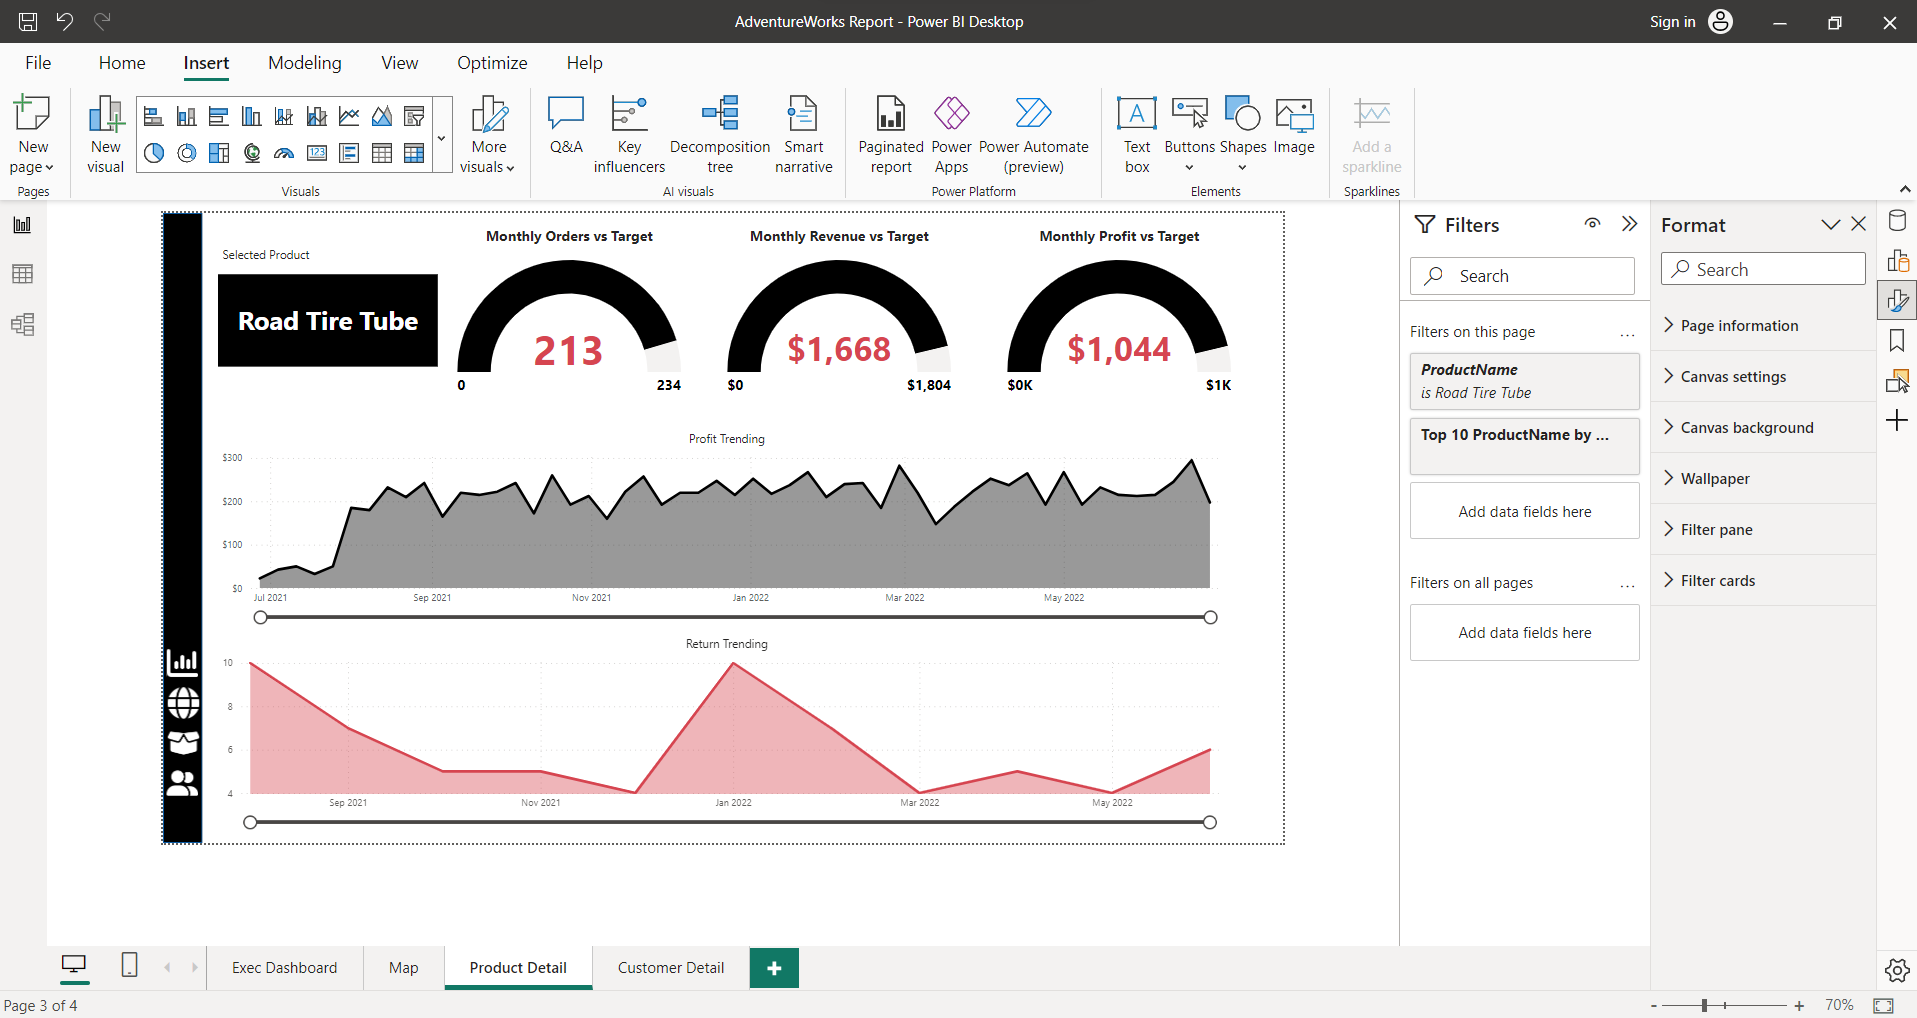

What the dashboard file says about the page in this screenshot:
{"tool":"powerbi","page":{"name":"Product Detail","canvas":[1280,720],"ordinal":2},"visuals":[{"type":"shape","box":[0,0,45,720],"z":0},{"type":"gauge","title":"Monthly Orders vs Target","fields":{"Y":["Measure Table.Total Orders"],"MaxValue":["Measure Table.Order Target"]},"box":[331.4,14.3,265.7,217.1],"z":1000},{"type":"gauge","title":"Monthly Revenue vs Target","fields":{"Y":["Measure Table.Total Revenue"],"MaxValue":["Measure Table.Revenue Target"]},"box":[640,14.3,265.7,217.1],"z":2000},{"type":"gauge","title":"Monthly Profit vs Target","fields":{"Y":["Measure Table.Total Profit"],"MaxValue":["Measure Table.Profit Target"]},"box":[960,14.3,265.7,217.1],"z":3000},{"type":"areaChart","title":"Profit Trending","fields":{"Y":["Measure Table.Total Profit"],"Category":["Calendar Lookup.Date Hierarchy.Start of Year","Calendar Lookup.Date Hierarchy.Start of Month","Calendar Lookup.Date Hierarchy.Start of Week","Calendar Lookup.Date Hierarchy.Date"]},"box":[62.9,248.6,1162.9,224.3],"z":4000},{"type":"areaChart","title":"Return Trending","fields":{"Y":["Measure Table.Total Returns"],"Category":["Calendar Lookup.Date Hierarchy.Start of Year","Calendar Lookup.Date Hierarchy.Start of Month","Calendar Lookup.Date Hierarchy.Start of Week","Calendar Lookup.Date Hierarchy.Date"]},"box":[62.9,482.9,1162.9,224.3],"z":5000},{"type":"card","fields":{"Values":["Min(Product Lookup.ProductName)"]},"box":[62.9,70,251.4,105.7],"z":6000},{"type":"textbox","box":[62.9,32.9,214.3,37.1],"z":7000},{"type":"actionButton","box":[1.4,582.9,44.3,45.7],"z":7001},{"type":"actionButton","box":[1.4,537.1,44.3,45.7],"z":7002},{"type":"actionButton","box":[0,628.6,44.3,45.7],"z":7003},{"type":"actionButton","box":[0,491.4,44.3,45.7],"z":7004}]}

Visuals, with their boxes on the page's 1280x720 design canvas (x1, y1, x2, y2). These are canvas units, not pixel positions in the 1917x1018 screenshot, which may show the page scaled, cropped or inside an application window:
shape: [0, 0, 45, 720]
"Monthly Orders vs Target" gauge: [331, 14, 597, 231]
"Monthly Revenue vs Target" gauge: [640, 14, 906, 231]
"Monthly Profit vs Target" gauge: [960, 14, 1226, 231]
"Profit Trending" areaChart: [63, 249, 1226, 473]
"Return Trending" areaChart: [63, 483, 1226, 707]
card - Min(Product Lookup.ProductName): [63, 70, 314, 176]
textbox: [63, 33, 277, 70]
actionButton: [1, 583, 46, 629]
actionButton: [1, 537, 46, 583]
actionButton: [0, 629, 44, 674]
actionButton: [0, 491, 44, 537]
